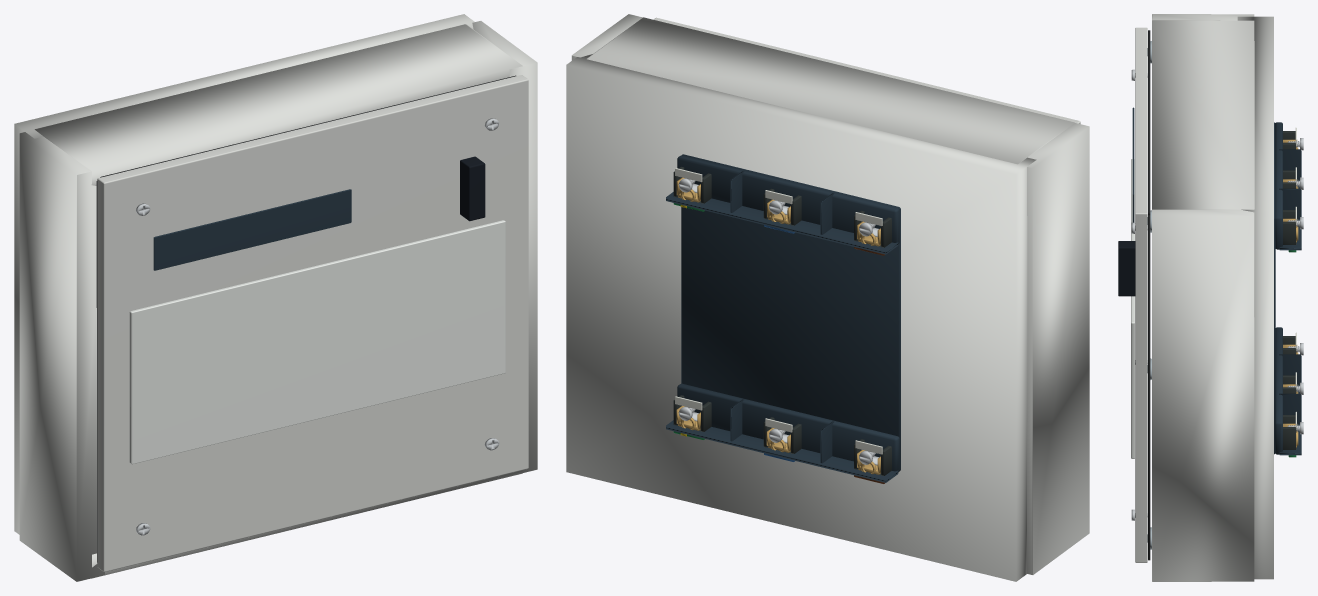
The model's file is panel_domestic-enclosure.low.glb.
3 renders of one model, left to right at view 1: azimuth 30°, elevation 25°; view 2: azimuth 150°, elevation 25°; view 3: azimuth 270°, elevation 25°, orthographic. The views are drawn at different scales.
Parts seen in each view (by area): view 1: part:cover, part:body · Original 7dbee62c, detail:enclosure-gasket-and-fixings · Detail rubber gasket; view 2: part:body · Original 7dbee62c, part:terminals.001 · Original a463fd81, part:cover; view 3: part:body · Original 7dbee62c, part:cover, part:terminals.001 · Original a463fd81, detail:enclosure-gasket-and-fixings · Detail rubber gasket, detail:terminal-clamp:PE · Detail moulded engineering polyme, detail:terminal-clamp:PEOUT · Detail moulded engineering pol.
Part boxes in pixels (x1,y1,x2,y2): part:cover: (97, 75, 528, 571); part:body · Original 7dbee62c: (14, 14, 537, 581); detail:enclosure-gasket-and-fixings · Detail rubber gasket: (96, 75, 515, 562); part:body · Original 7dbee62c: (566, 14, 1089, 581); part:terminals.001 · Original a463fd81: (666, 154, 900, 482); part:cover: (653, 17, 1080, 123); part:body · Original 7dbee62c: (1152, 14, 1273, 581); part:cover: (1118, 27, 1147, 562); part:terminals.001 · Original a463fd81: (1274, 122, 1301, 455); detail:enclosure-gasket-and-fixings · Detail rubber gasket: (1148, 30, 1150, 560); detail:terminal-clamp:PE · Detail moulded engineering polyme: (1283, 210, 1296, 244); detail:terminal-clamp:PEOUT · Detail moulded engineering pol: (1283, 415, 1296, 449).
Bounding box in the file's own units: 1.97 × 1.66 × 0.764.
